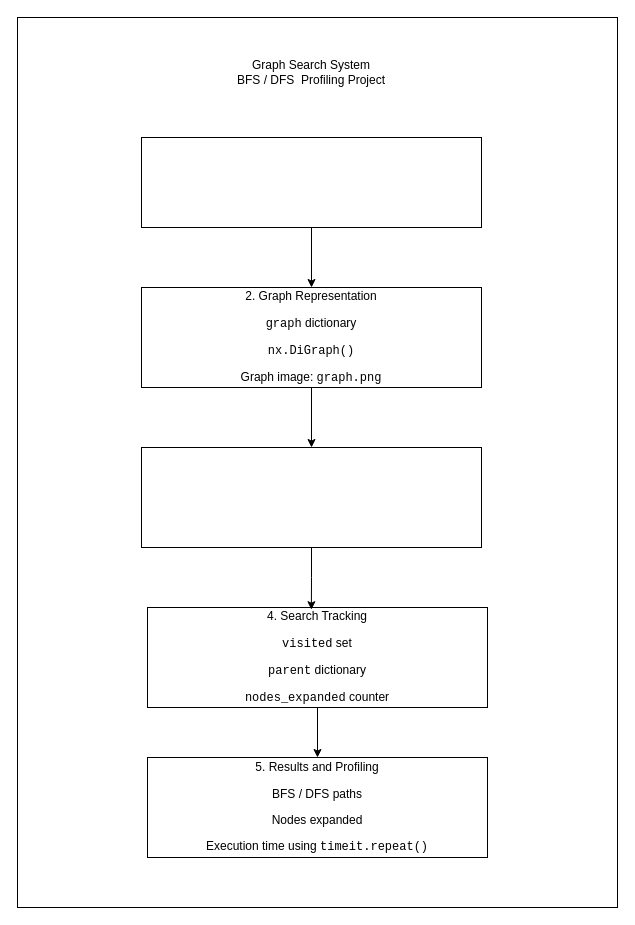
Image size: 635x925. Some labels were removed from this diagram. The shapes that lost their labels are listed below. From the top down, each one's centre as x and y in pixels, then its label:
pixel 311 182: 1. Configured Start / Goal Start Node: S Goal Node: Goal
pixel 311 497: 3. Search Engine bfs() — Queue using deque dfs() — Stack using list
